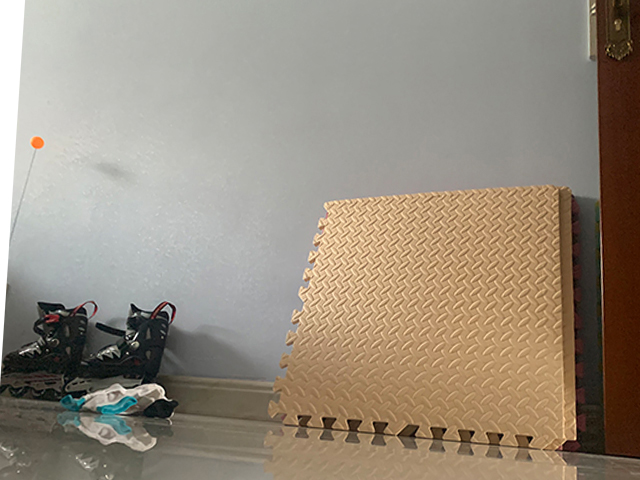socks: (60, 383, 178, 423)
